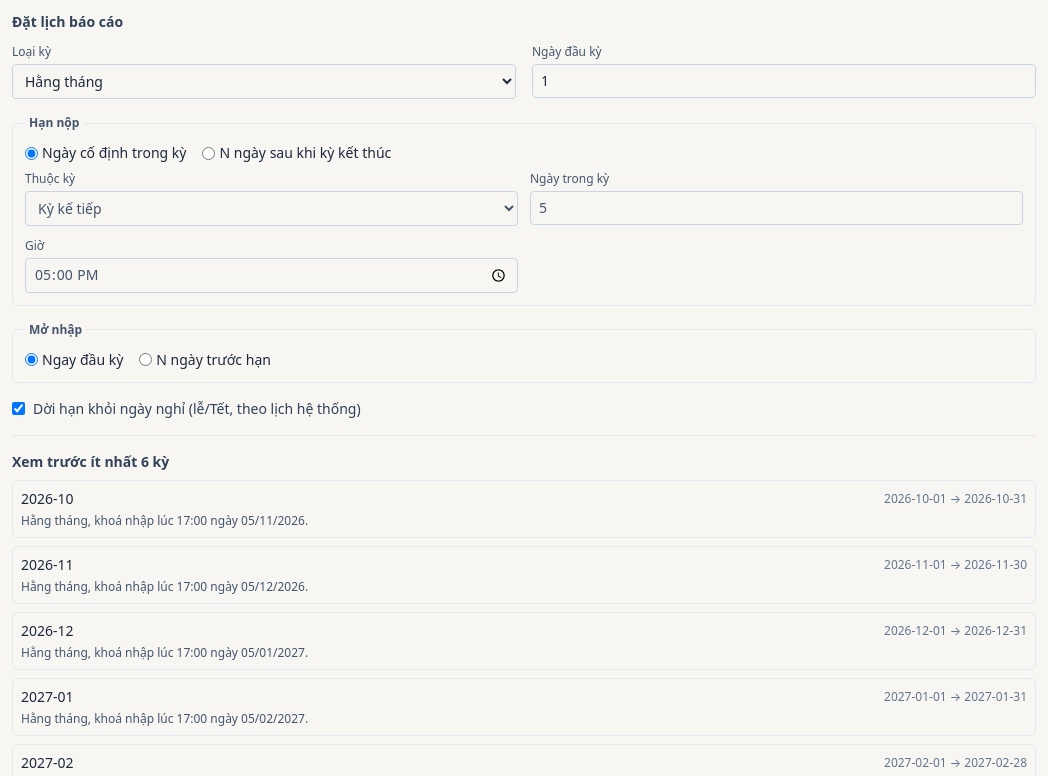
ReportScheduleStep › ONE_TIME disables "Tiếp theo" until a date is chosen
This screenshot has width=1048, height=776.
Select "Một lần" in the dropdown with test id "select-period-type" at (264,82), box [12, 64, 516, 99]
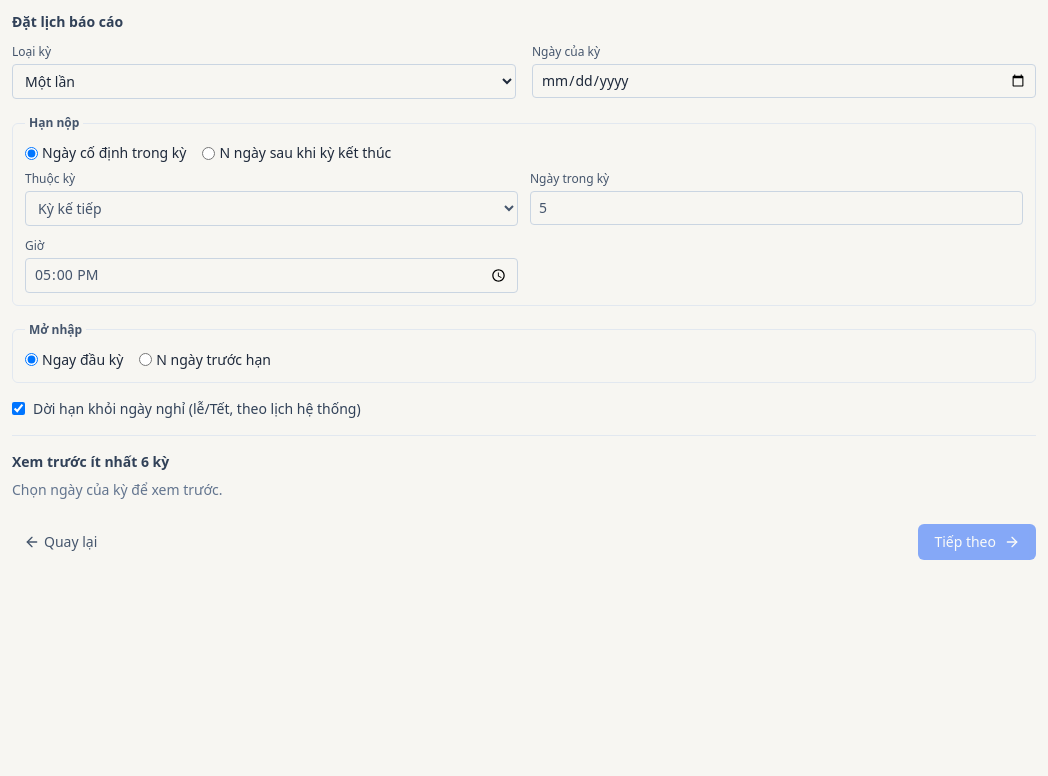
Result: the button with test id "btn-schedule-next" is disabled at [918, 524, 1036, 560]
Type "2026-12-01" into the date field with test id "input-one-time-date" at (784,81), box [532, 64, 1036, 98]
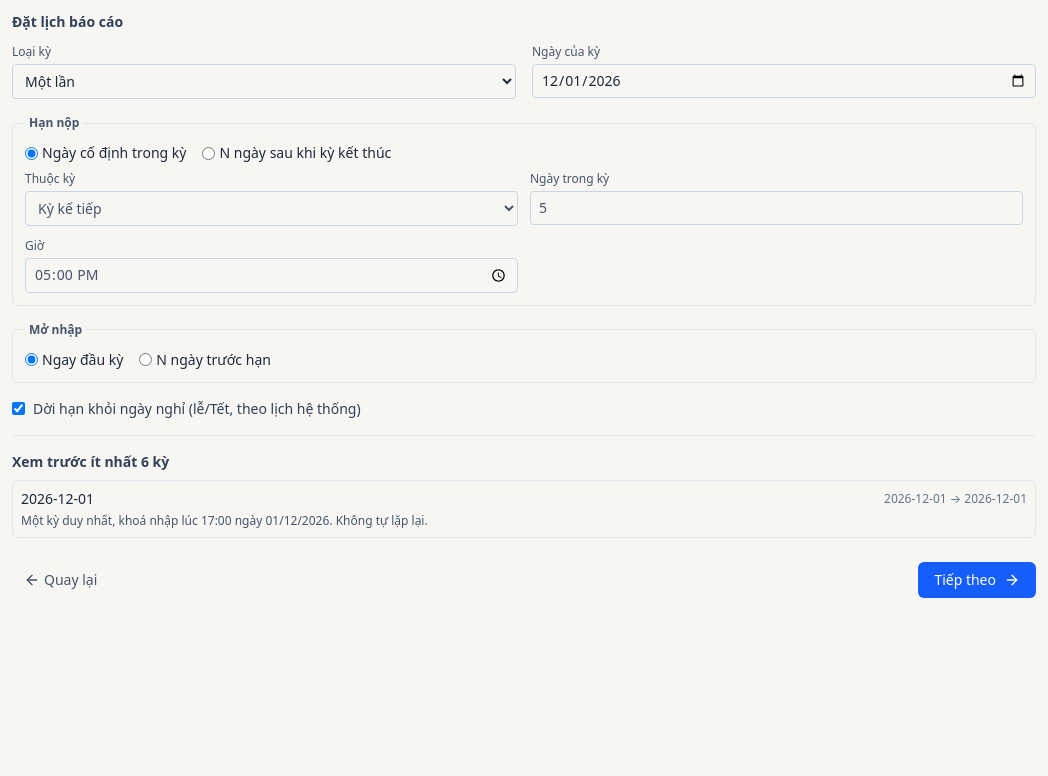
Result: the button with test id "btn-schedule-next" is enabled at [918, 562, 1036, 598]
